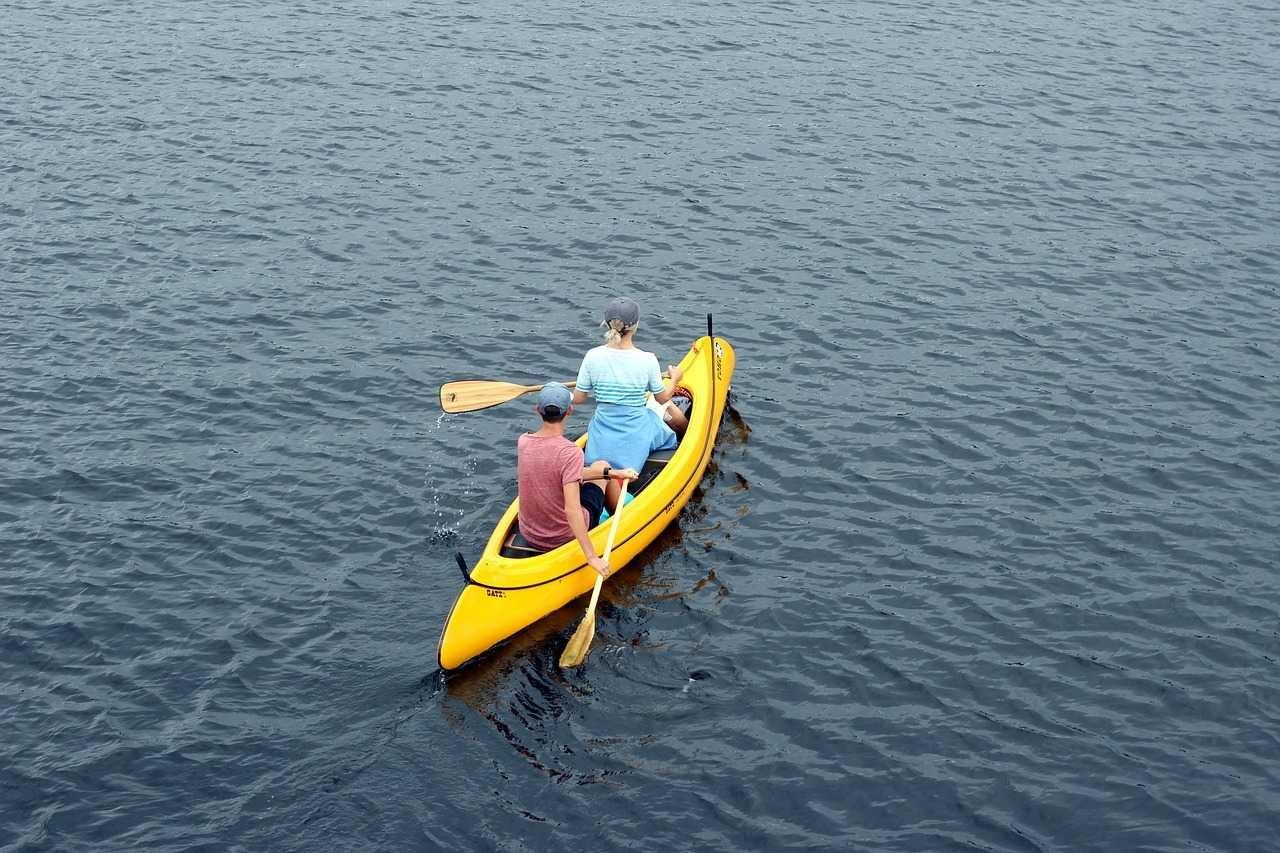kayak: (438, 328, 736, 675)
